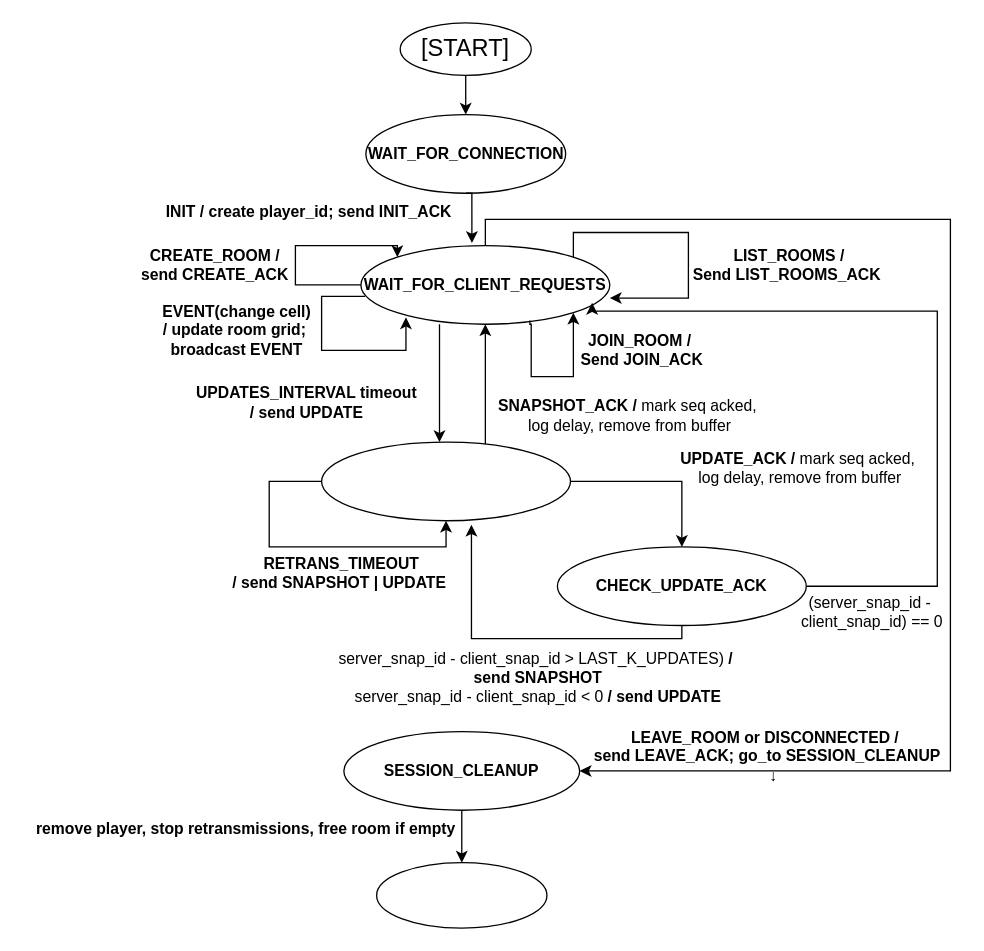
This 984x951 diagram has some shape labels left out. The centre of each missing label's shape, as x and y in pixels:
"PLAY_BROADCAST" belongs at point (445, 481).
"wait for new connection" belongs at point (461, 894).
